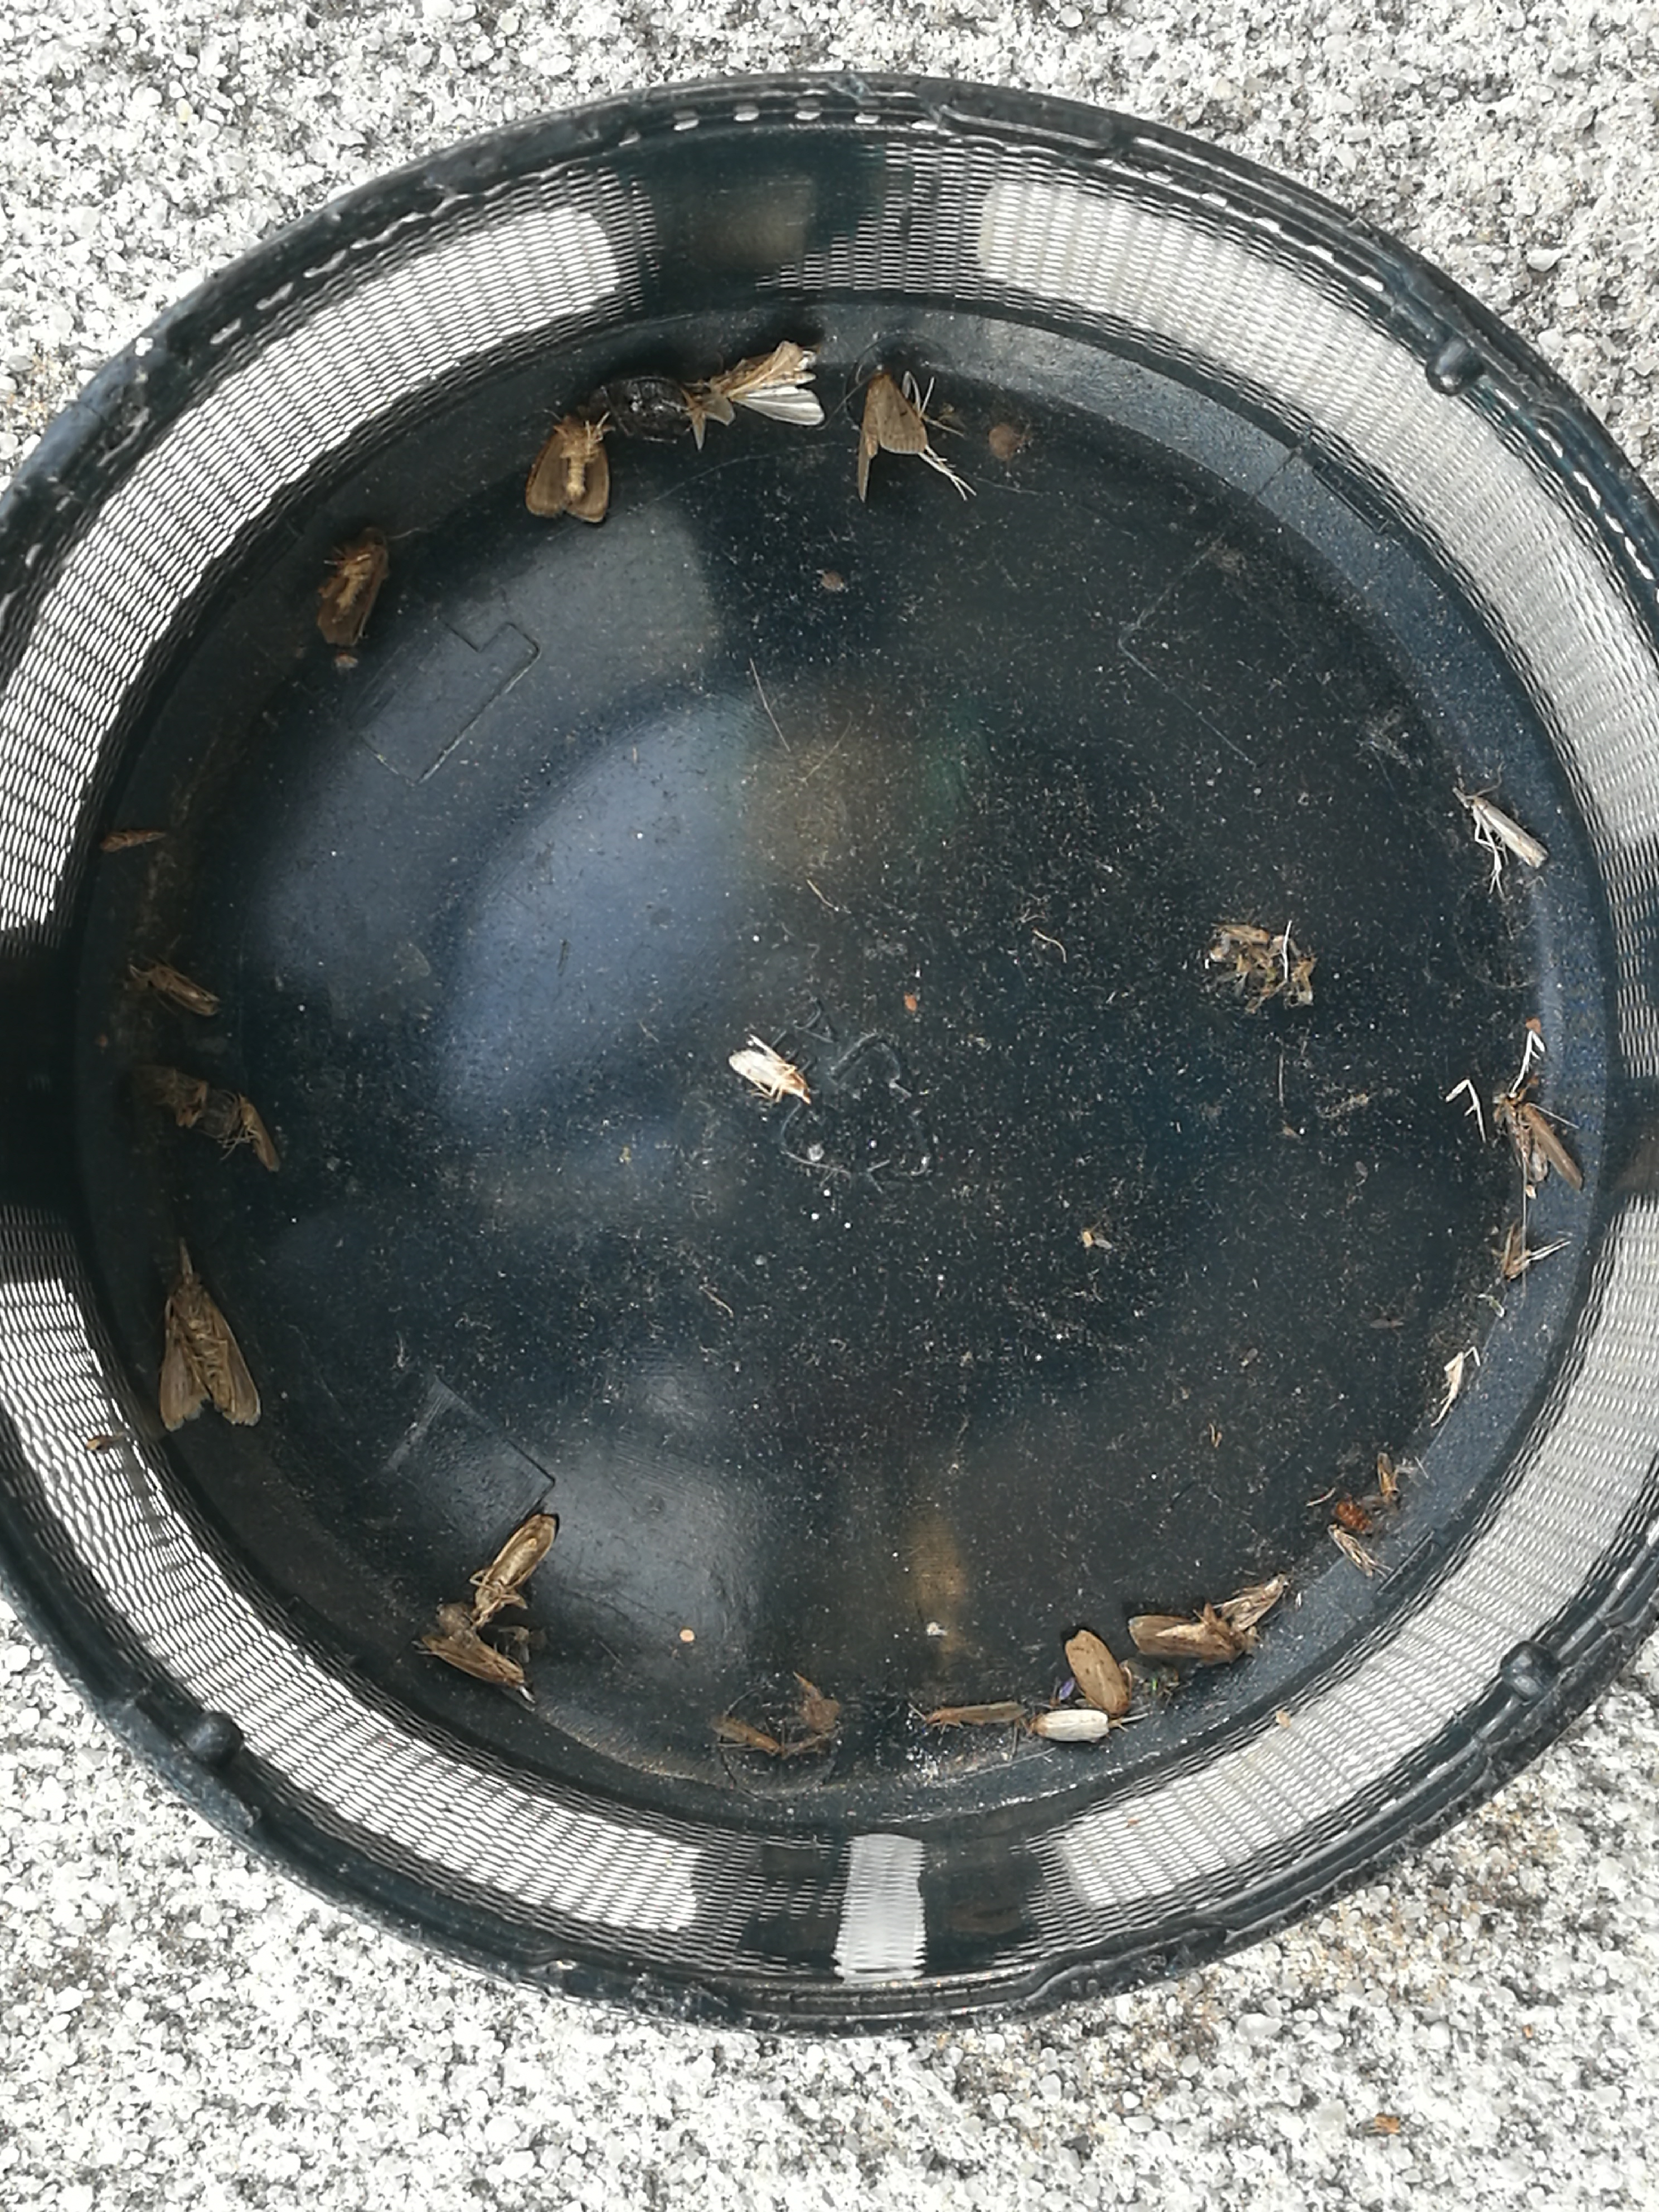mosquito: (476, 1515, 556, 1611), (420, 1630, 526, 1689), (1460, 794, 1544, 867), (1523, 1101, 1584, 1191), (134, 965, 218, 1015), (1222, 1575, 1286, 1627), (1330, 1522, 1380, 1575), (242, 1103, 279, 1174), (931, 1703, 1026, 1726)
moth: (162, 1271, 263, 1432), (704, 340, 821, 423), (857, 368, 924, 503), (526, 415, 608, 524), (321, 524, 389, 644), (1065, 1632, 1126, 1716), (1131, 1616, 1244, 1658), (728, 1050, 805, 1097), (1039, 1710, 1105, 1742)
